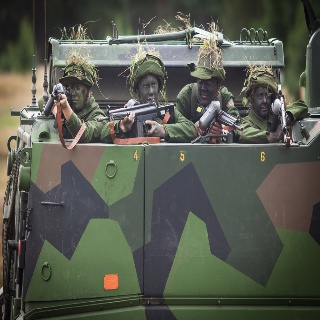rifle: (96, 98, 176, 136)
